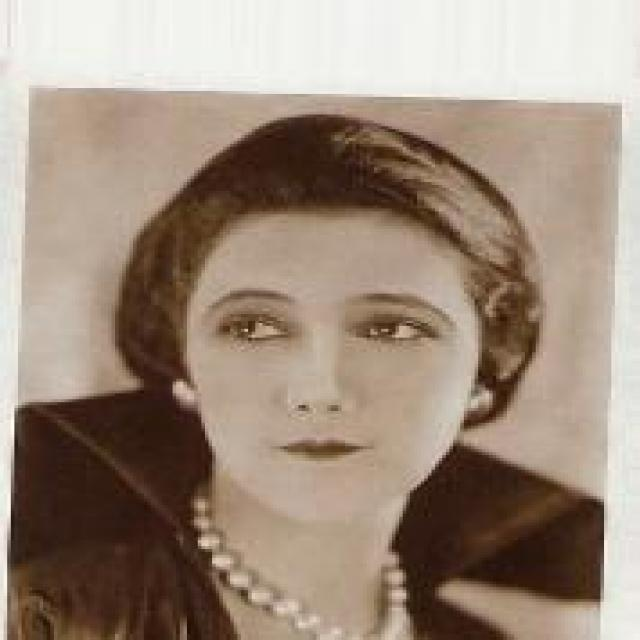nomask: (151, 114, 532, 578)
